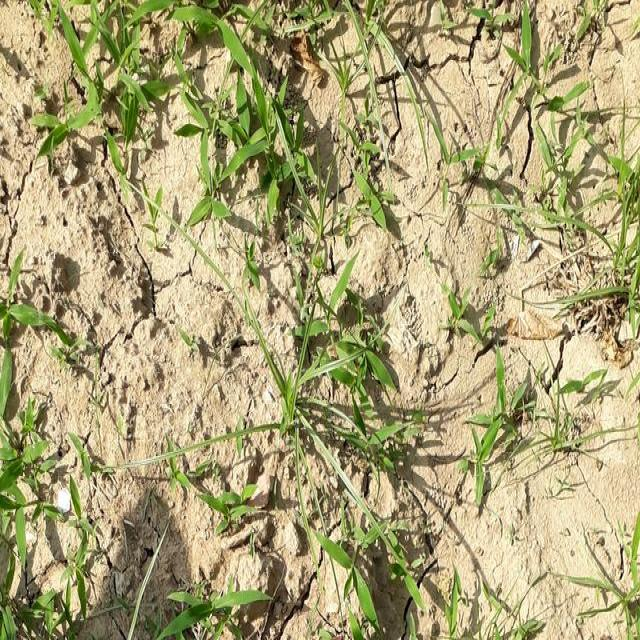weed: (260, 281, 430, 640), (65, 0, 322, 230), (1, 249, 96, 640), (456, 347, 531, 510), (518, 110, 594, 235), (152, 566, 270, 640), (559, 217, 638, 317), (579, 510, 638, 640), (342, 110, 400, 242), (167, 445, 259, 523), (498, 3, 552, 94)
